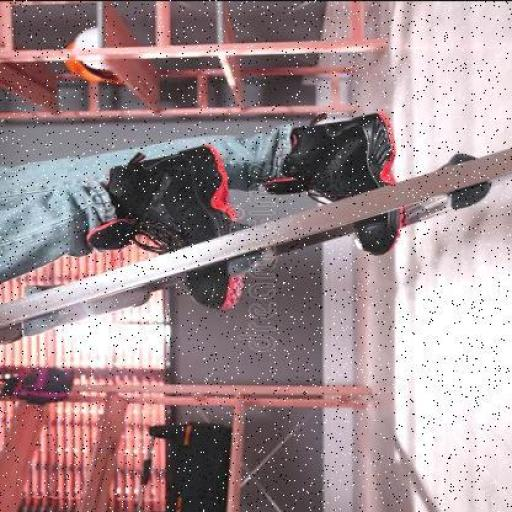safety_shoe: (116, 147, 240, 311), (274, 115, 400, 246)
